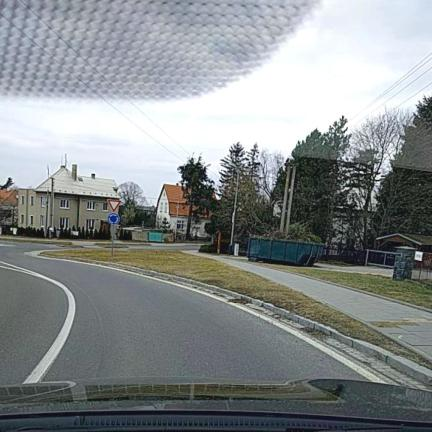Road: (0, 242, 364, 384)
